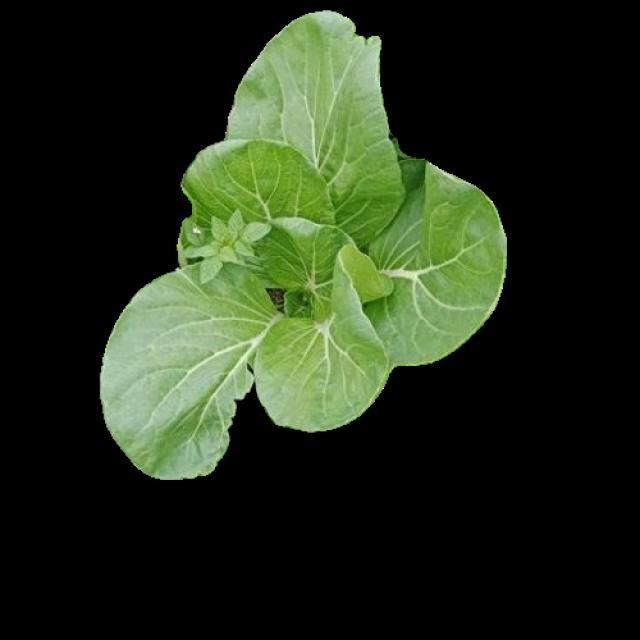mature: (101, 14, 508, 476)
unhealthy: (100, 256, 284, 477)
